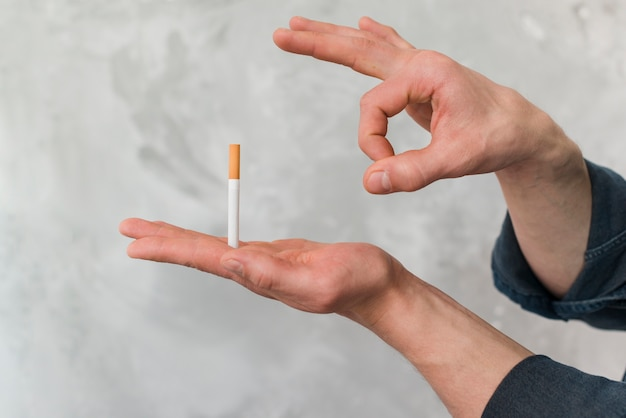cigarette: (226, 141, 242, 250)
